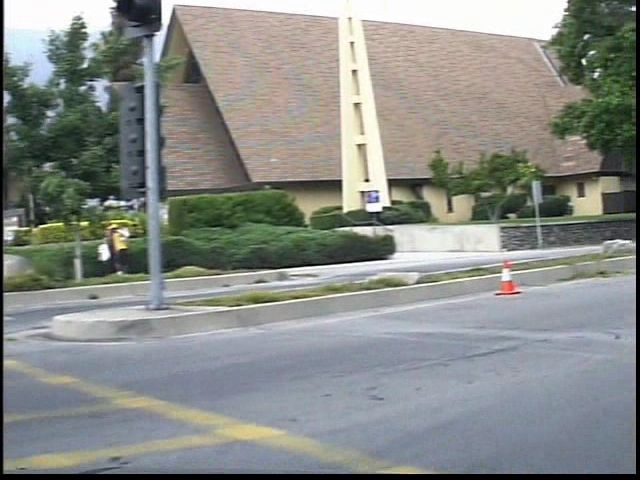person: (119, 218, 152, 278)
